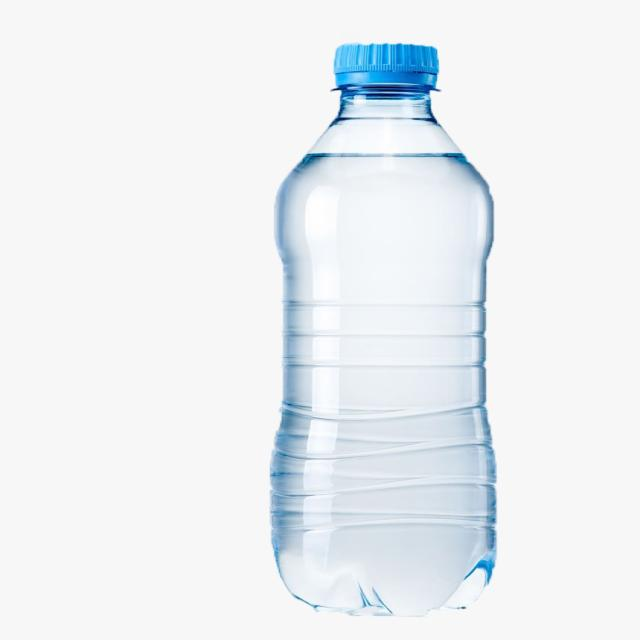bottle: (263, 32, 513, 620)
